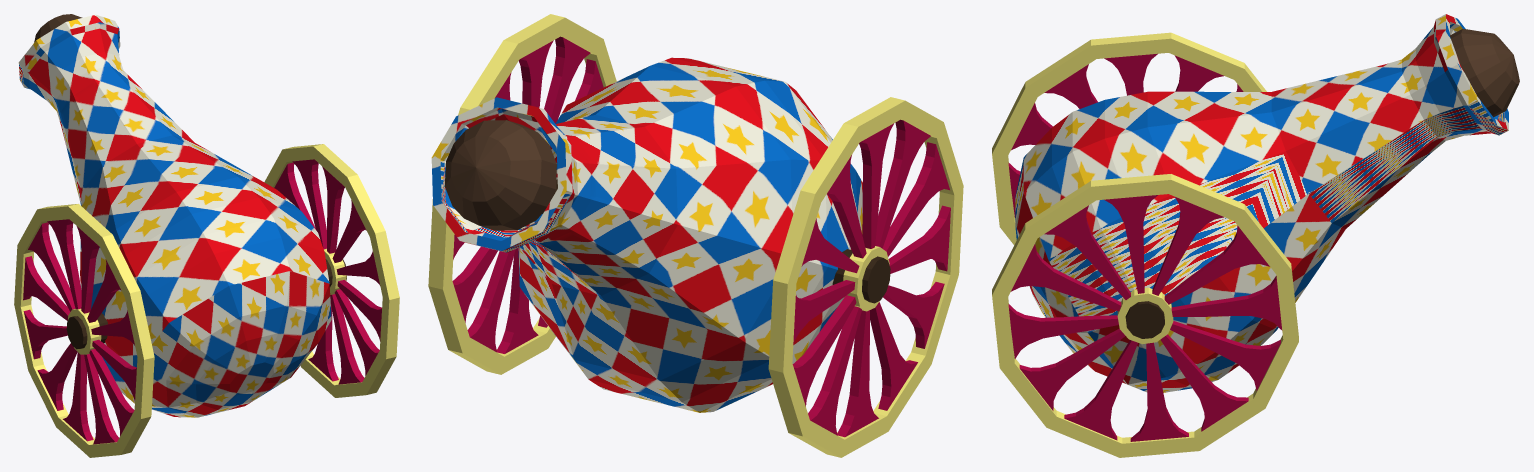
File: cannon.fbx
3 views of the same model, side by side, from view 1: azimuth 30°, elevation 25°; view 2: azimuth 150°, elevation 25°; view 3: azimuth 270°, elevation 25° (orthographic). The views are drawn at different scales.
Visible parts, largest first — view 1: Object_10; view 2: Object_10; view 3: Object_10.
Part boxes in pixels (<box>): Object_10: <box>14,14,399,457</box>; Object_10: <box>428,14,963,457</box>; Object_10: <box>992,14,1519,457</box>.
Bounding box in the file's own units: 180 × 200 × 264.
